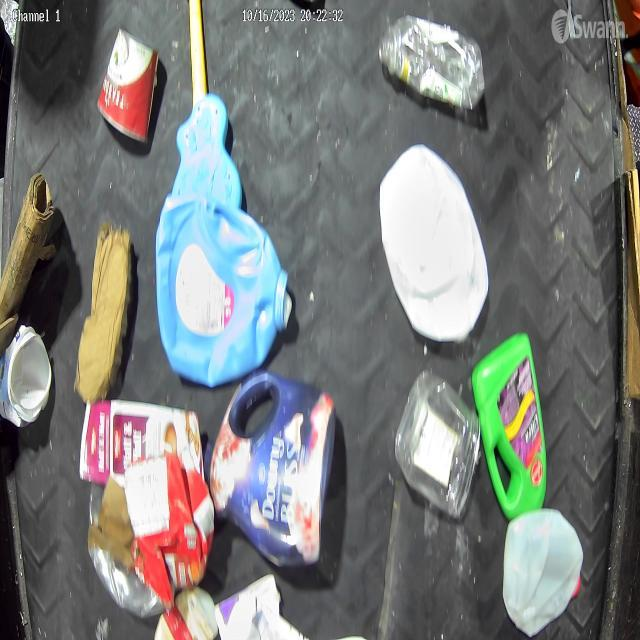can: (96, 28, 160, 145)
milk_jug: (379, 142, 490, 342), (500, 508, 584, 638)
non_white_jug: (202, 370, 338, 566), (154, 193, 292, 386), (473, 331, 548, 522)
plastic_bottle: (378, 14, 486, 109)
